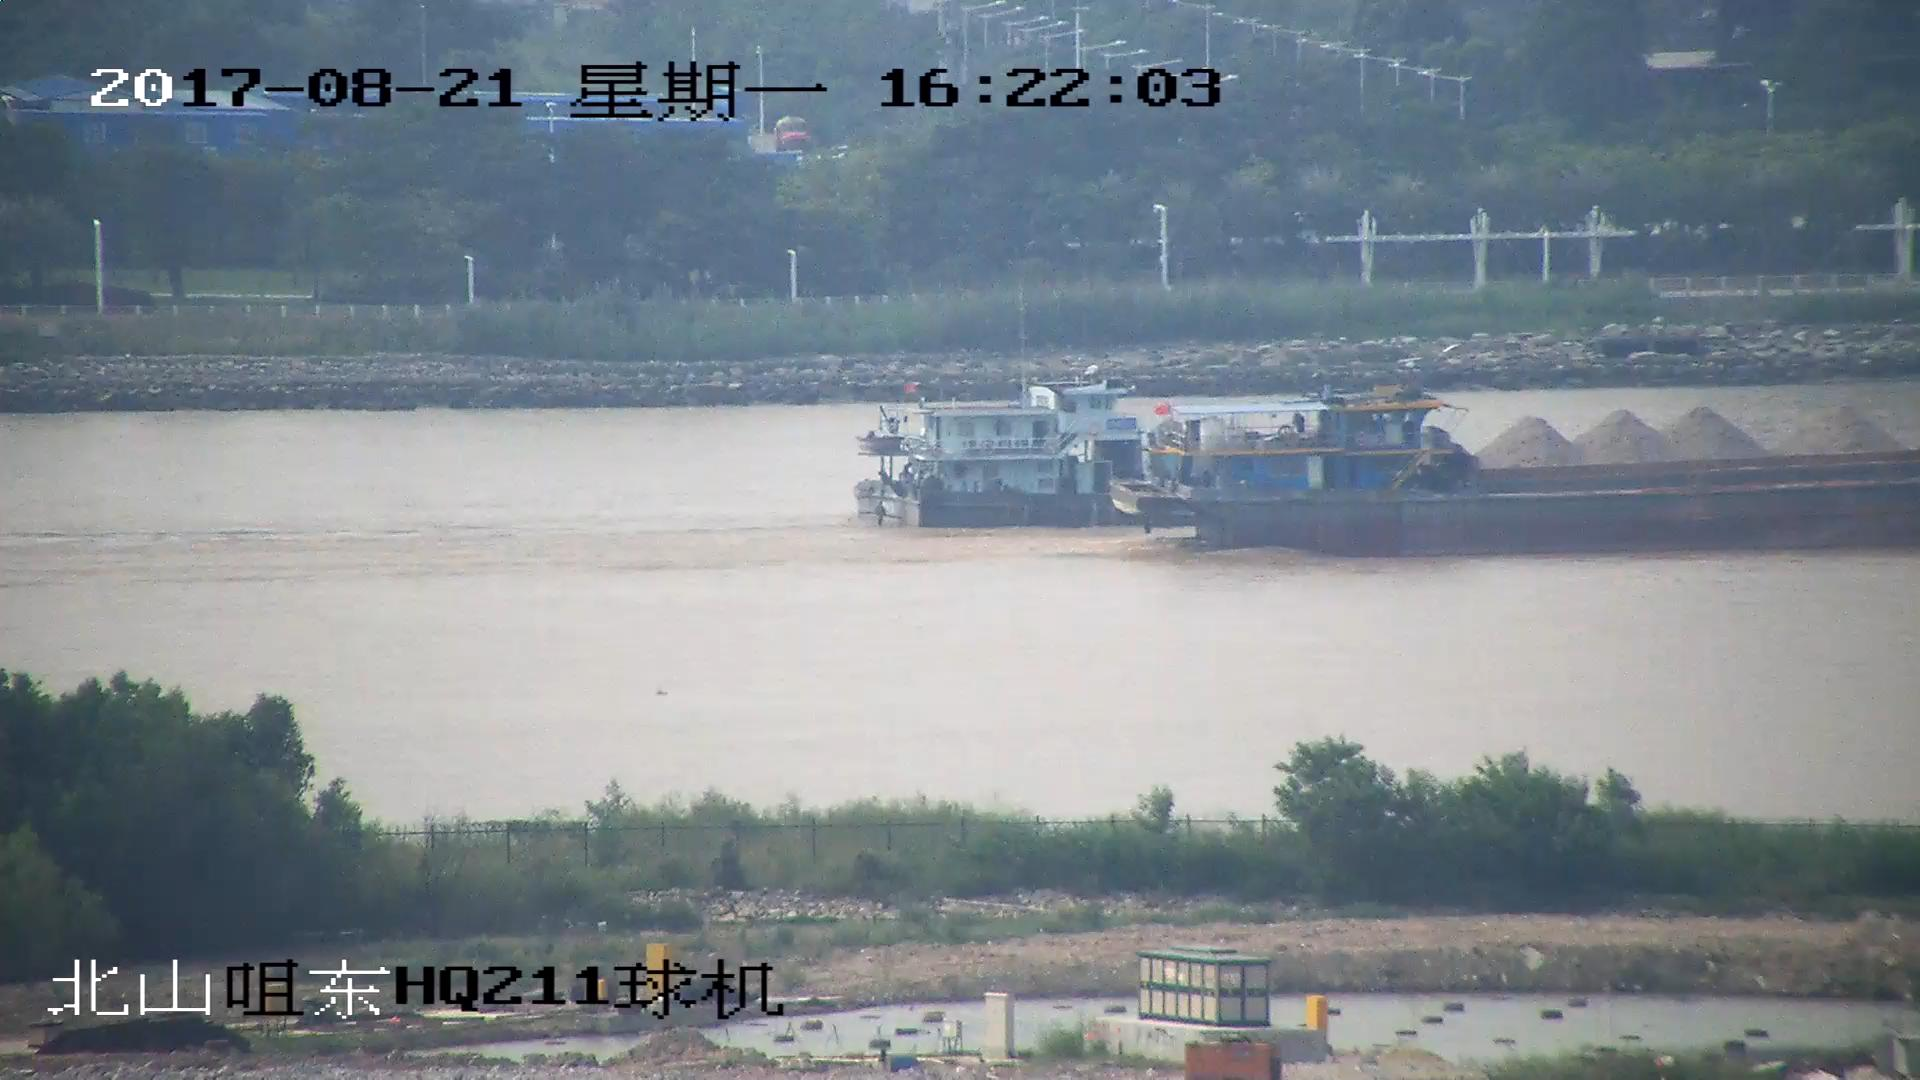bulk cargo carrier: (1112, 405, 1920, 552)
ore carrier: (848, 374, 1920, 529)
